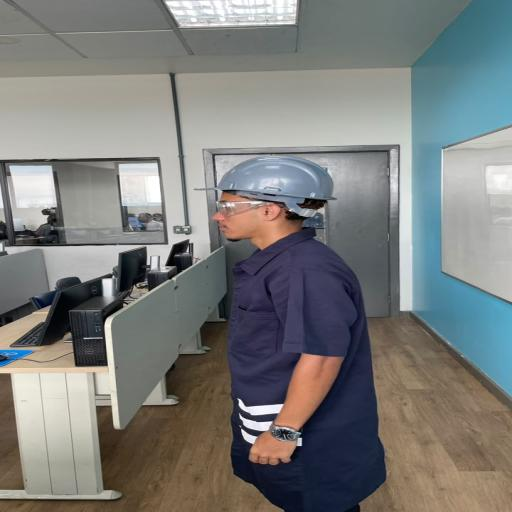CAPACETE: (194, 155, 338, 218)
OCULOS: (214, 200, 272, 217)
